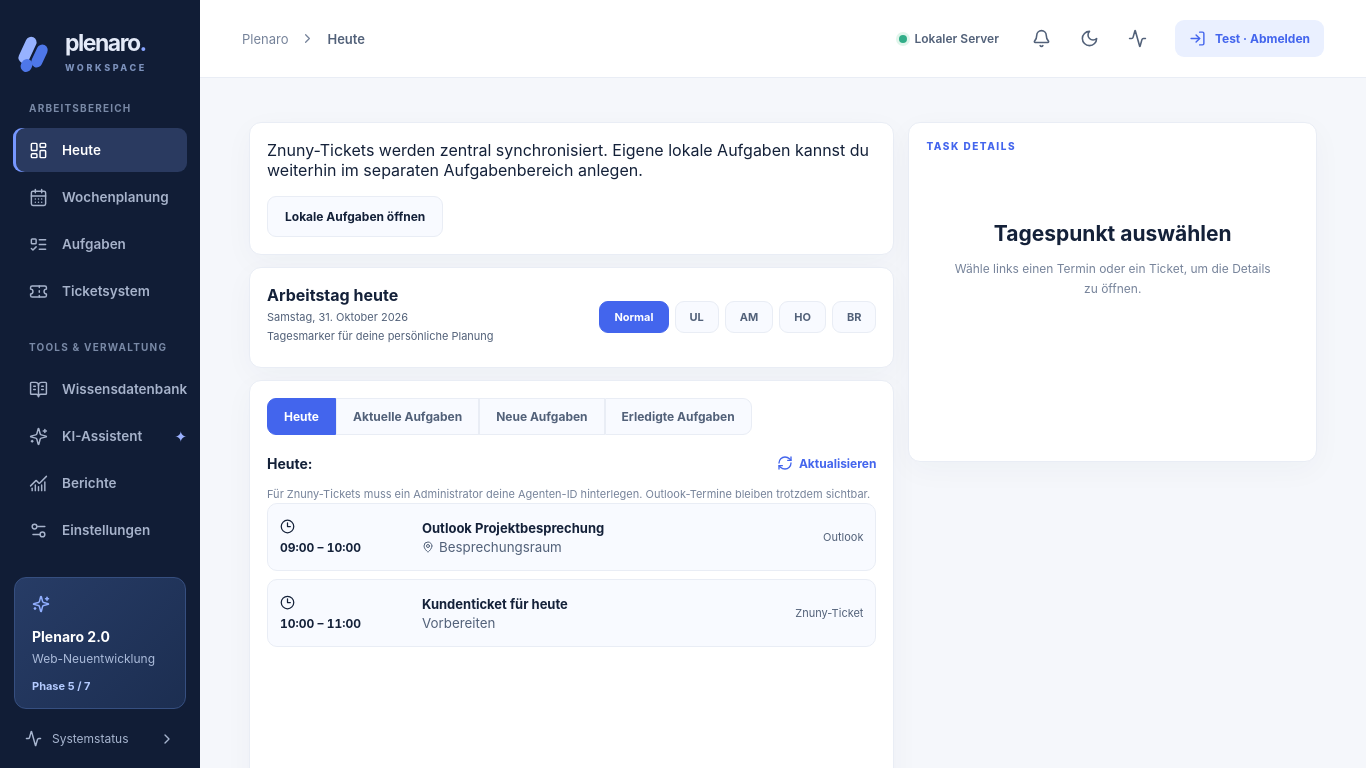
Test: Plenaro web shell › Heute zeigt nur lokale Znuny-Ticketsegmente und heutige Outlook-Termine
Click the button "Kundenticket für heute" at (320,624), box [267, 579, 876, 647]
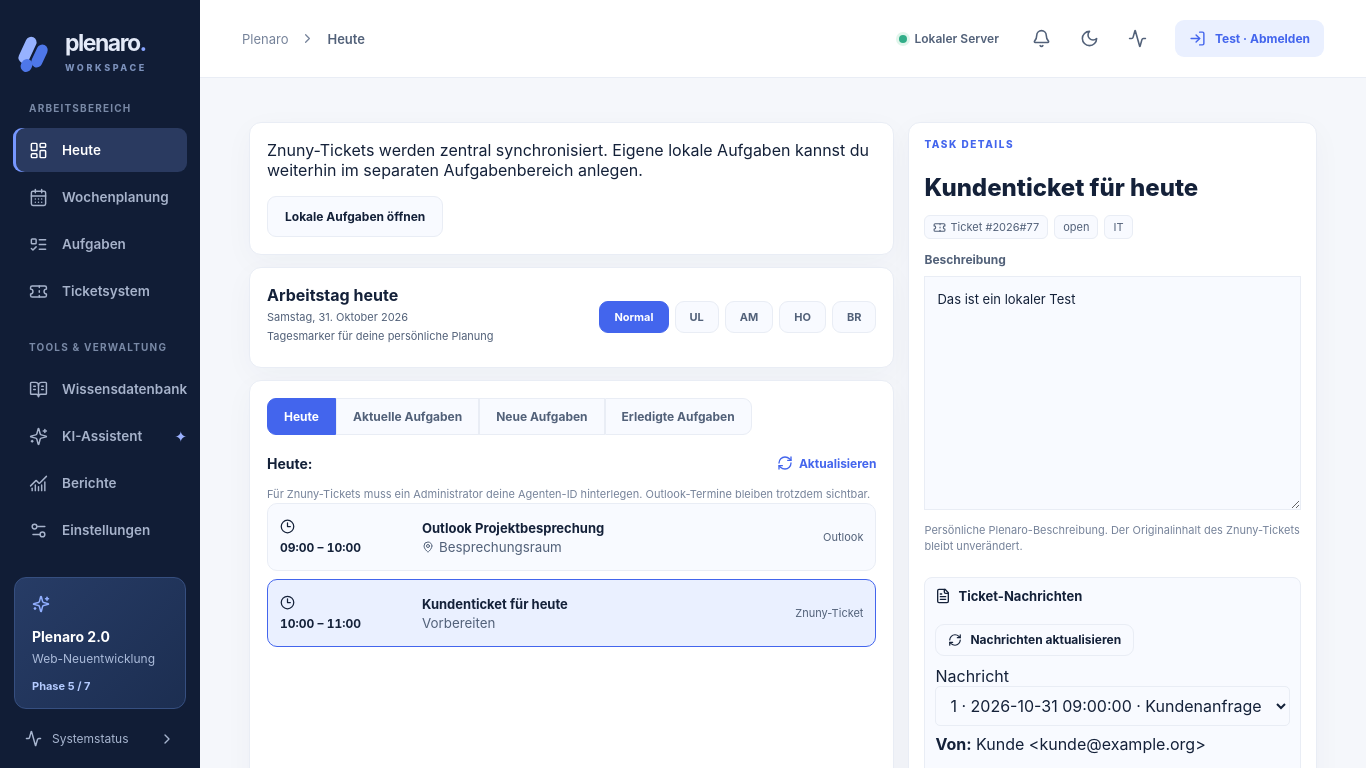
expect the heading "Kundenticket für heute" is shown: met, box [924, 173, 1198, 202]
expect the text box labelled "Beschreibung" holds "Das ist ein lokaler Test": met, box [924, 276, 1301, 510]
Click the button "Outlook Projektbesprechung" at (572,537), box [267, 503, 876, 571]
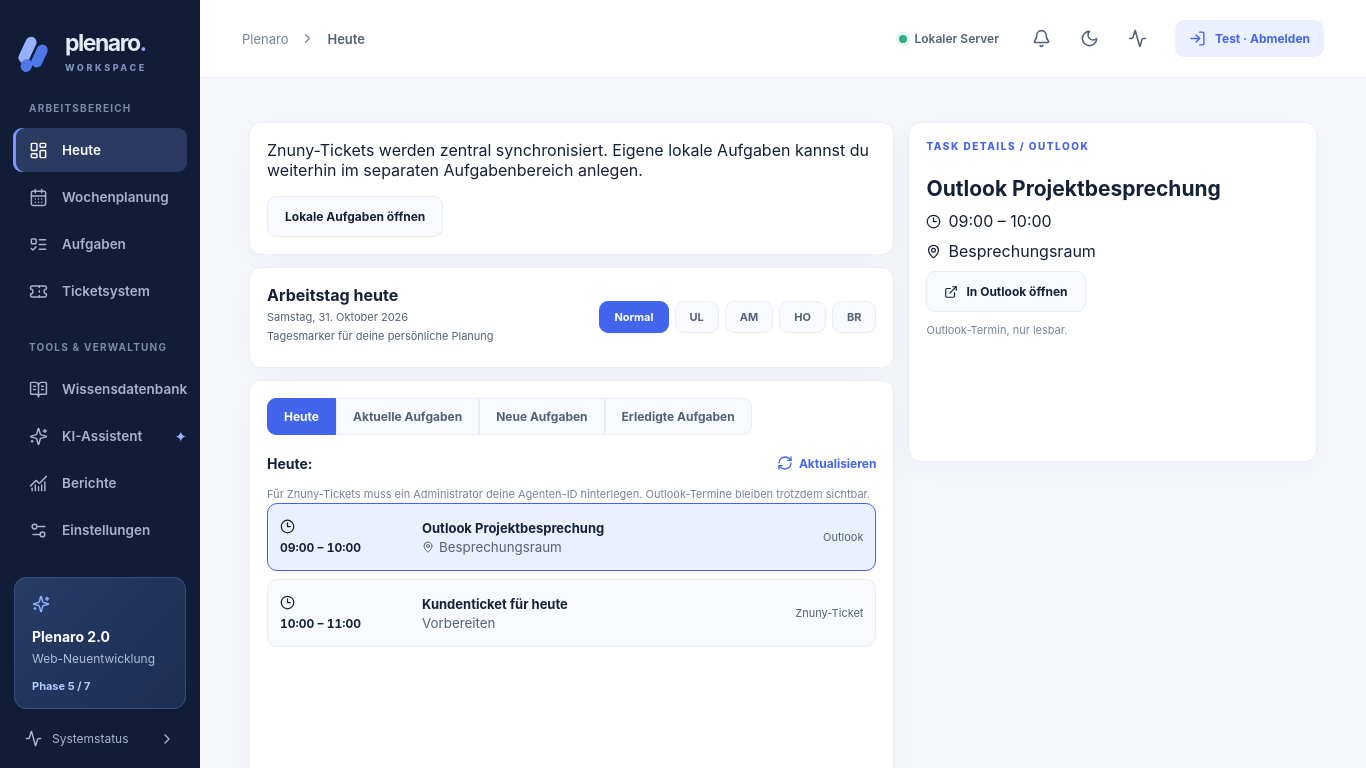
expect the heading "Outlook Projektbesprechung" is shown: met, box [926, 176, 1221, 201]
expect the link "In Outlook öffnen" is shown: met, box [926, 271, 1086, 312]
